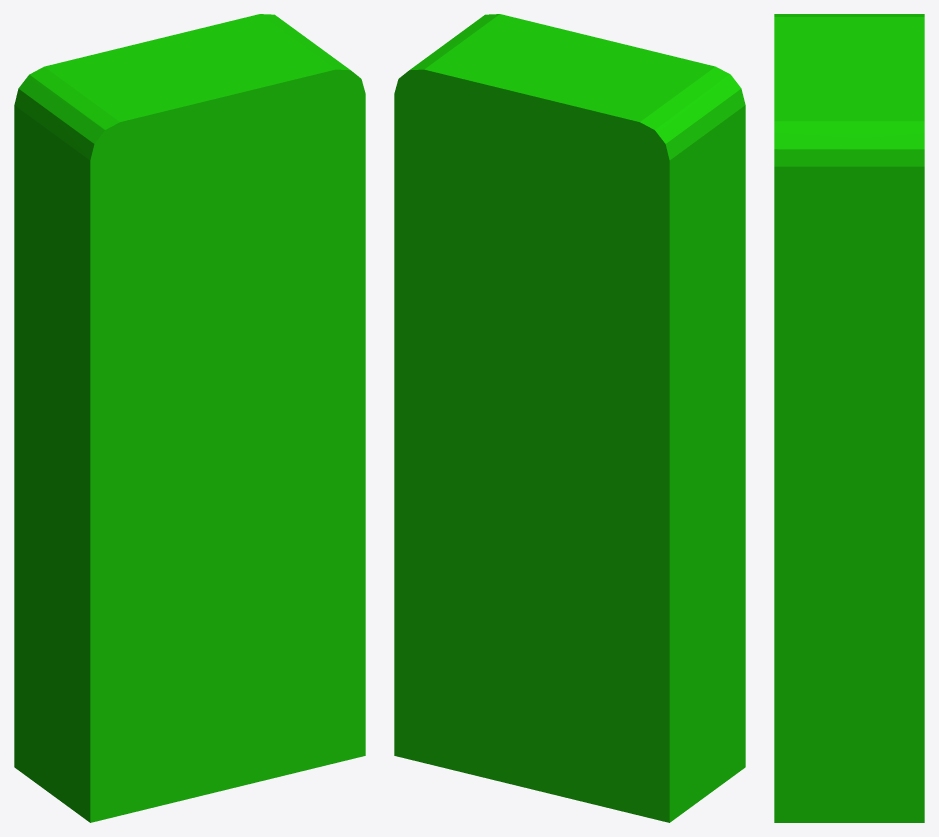
Rendered from simple_example_hole_part_39.obj.
3 views of the same model, side by side, from view 1: azimuth 30°, elevation 25°; view 2: azimuth 150°, elevation 25°; view 3: azimuth 270°, elevation 25° (orthographic).
Size of the model in its own units: 1.85 by 4.46 by 0.8841.
